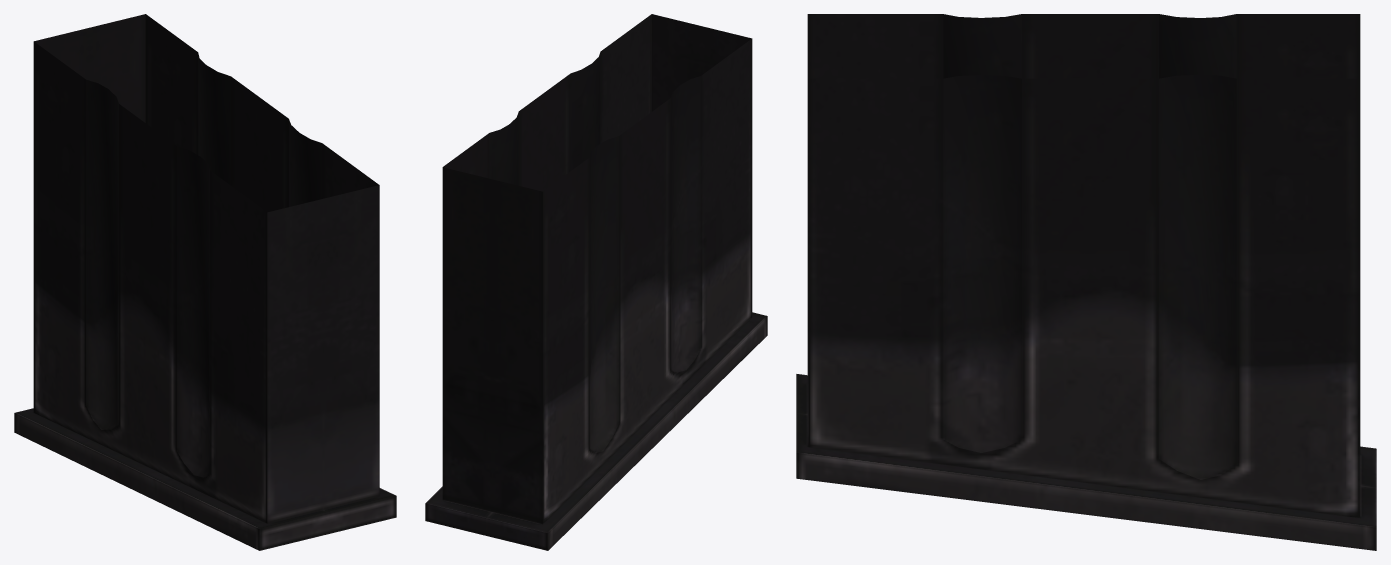
File: SniperRifle_Warfare_Clip_0.FBX
3 views of the same model, side by side, from view 1: azimuth 30°, elevation 25°; view 2: azimuth 150°, elevation 25°; view 3: azimuth 270°, elevation 25° (orthographic). The views are drawn at different scales.
Visible parts, largest first — view 1: mesh_clip; view 2: mesh_clip; view 3: mesh_clip.
Boxes of the visible parts, x1,y1,x2,y2 form: mesh_clip: (14,14,396,550); mesh_clip: (425,14,767,550); mesh_clip: (796,14,1376,550).
Size of the model in its own units: 0.0302 by 0.0828 by 0.0936.
